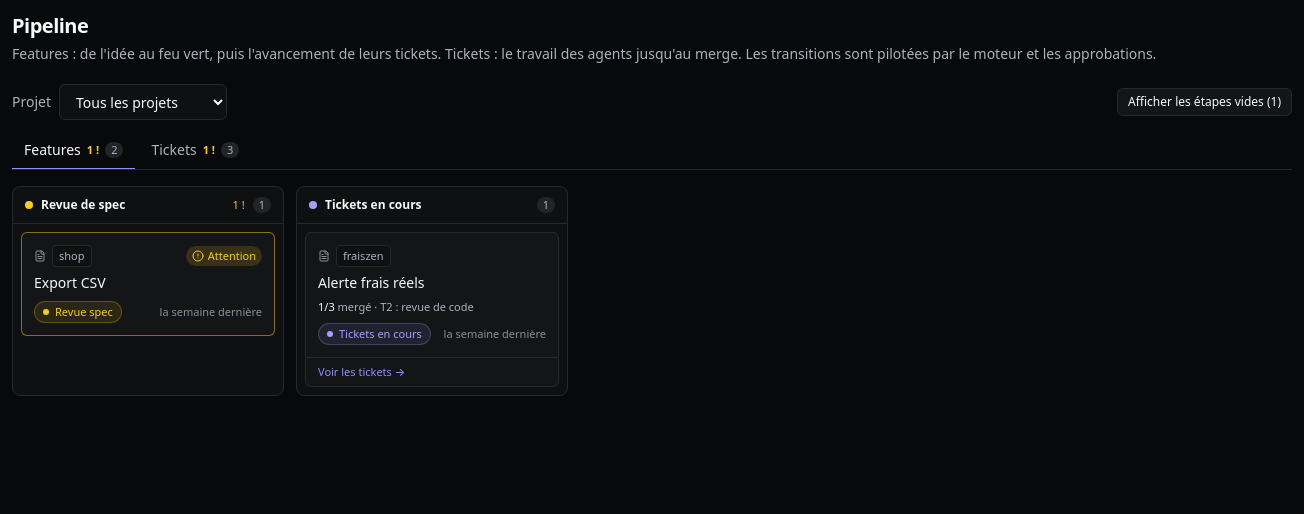
Test: Pipeline › « Voir les tickets » filtre le tableau des tickets sur la feature, filtre retirable
Click the button "Voir les tickets →".
click(432, 372)  # box [306,357,558,386]
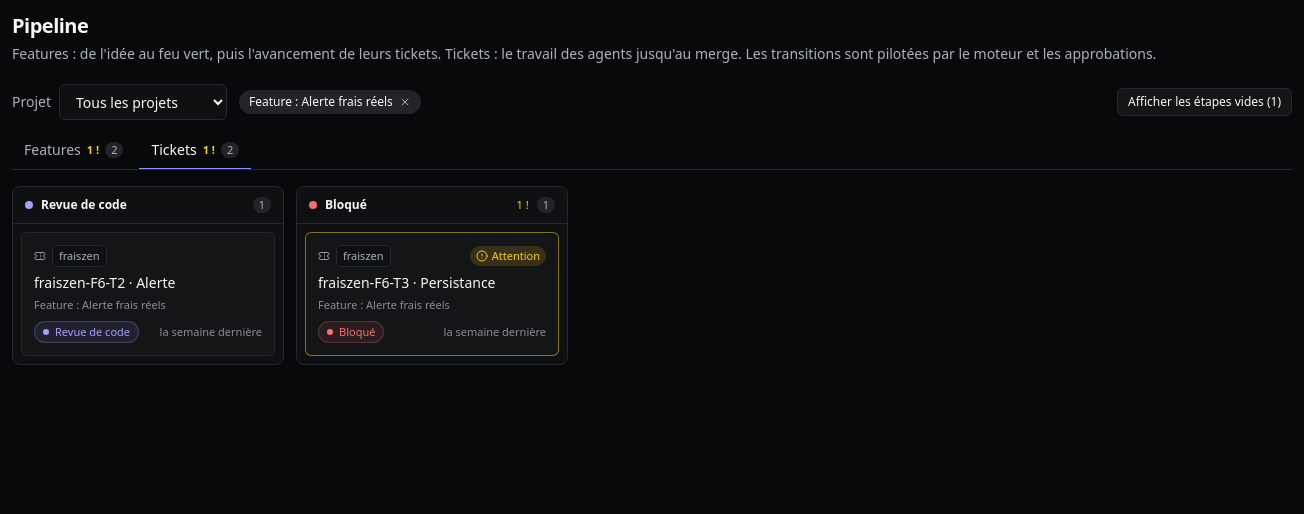
Expected: the number of elements with test id "pipeline-card" is 2, [21,232,275,356]; [305,232,559,356]
Now the element with test id "feature-filter" reads "Feature : Alerte frais réels", box [239,90,421,114]
Click the button named "Retirer le filtre de feature".
click(405, 102)  # box [399,96,411,108]
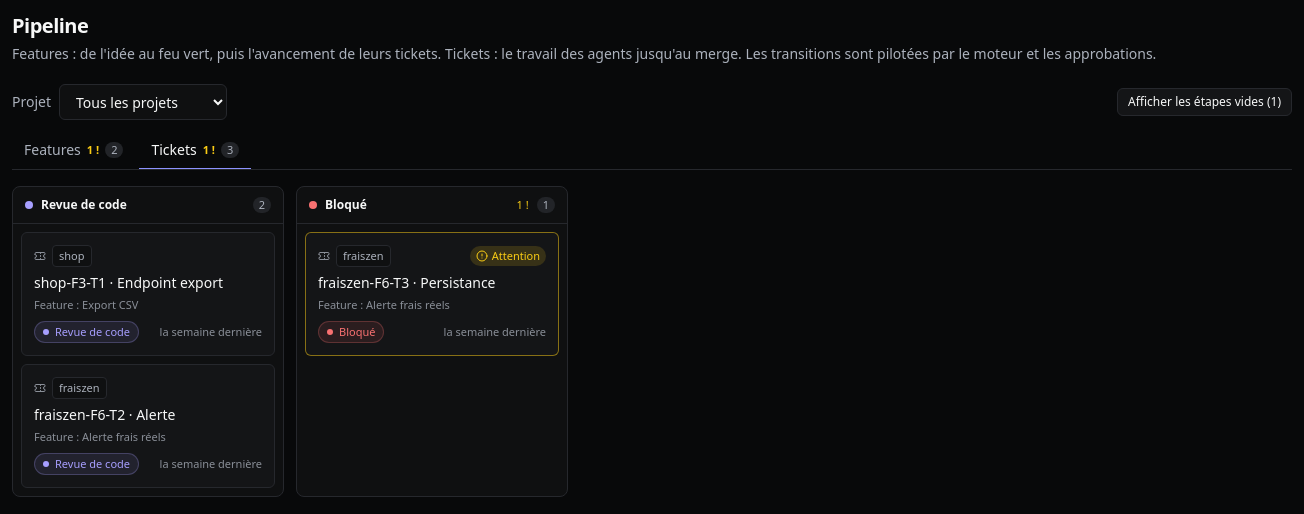
Now the number of elements with test id "pipeline-card" is 3, box [21,232,275,356]; [21,364,275,488]; [305,232,559,356]
